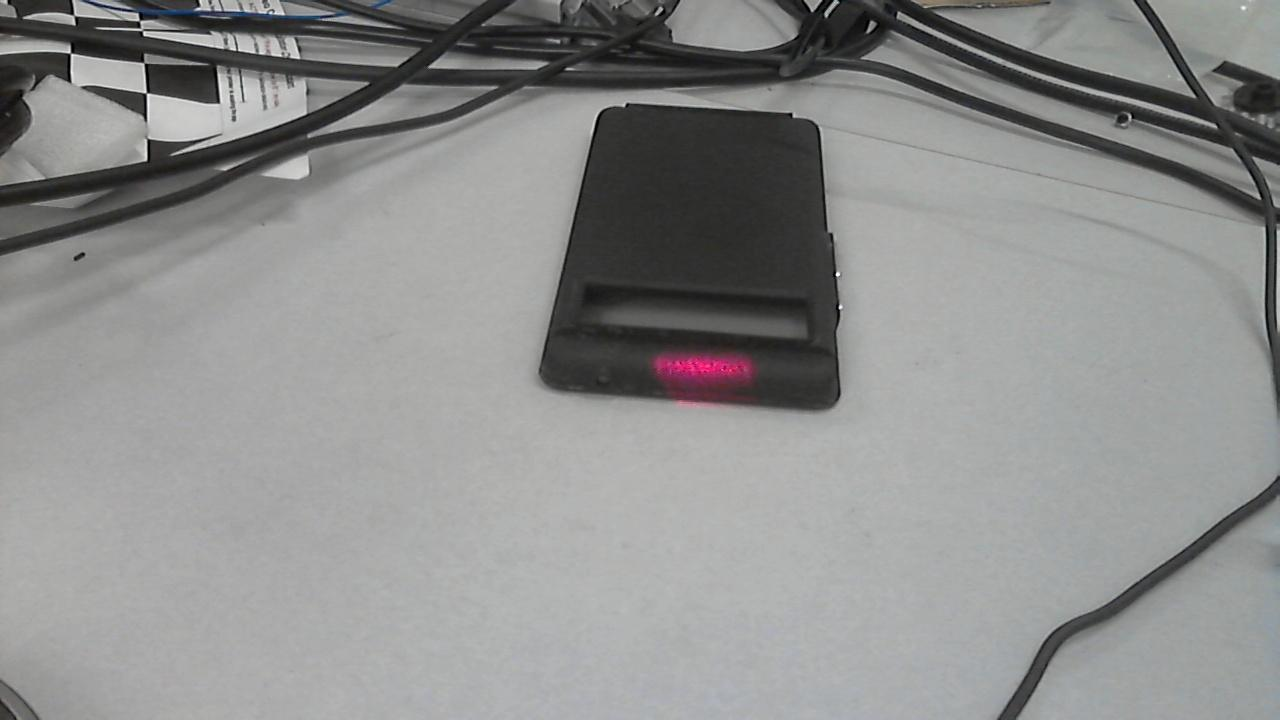Object protective phone case - Material rubber - Pdfname asdfeafgta: (650, 346, 762, 396)
